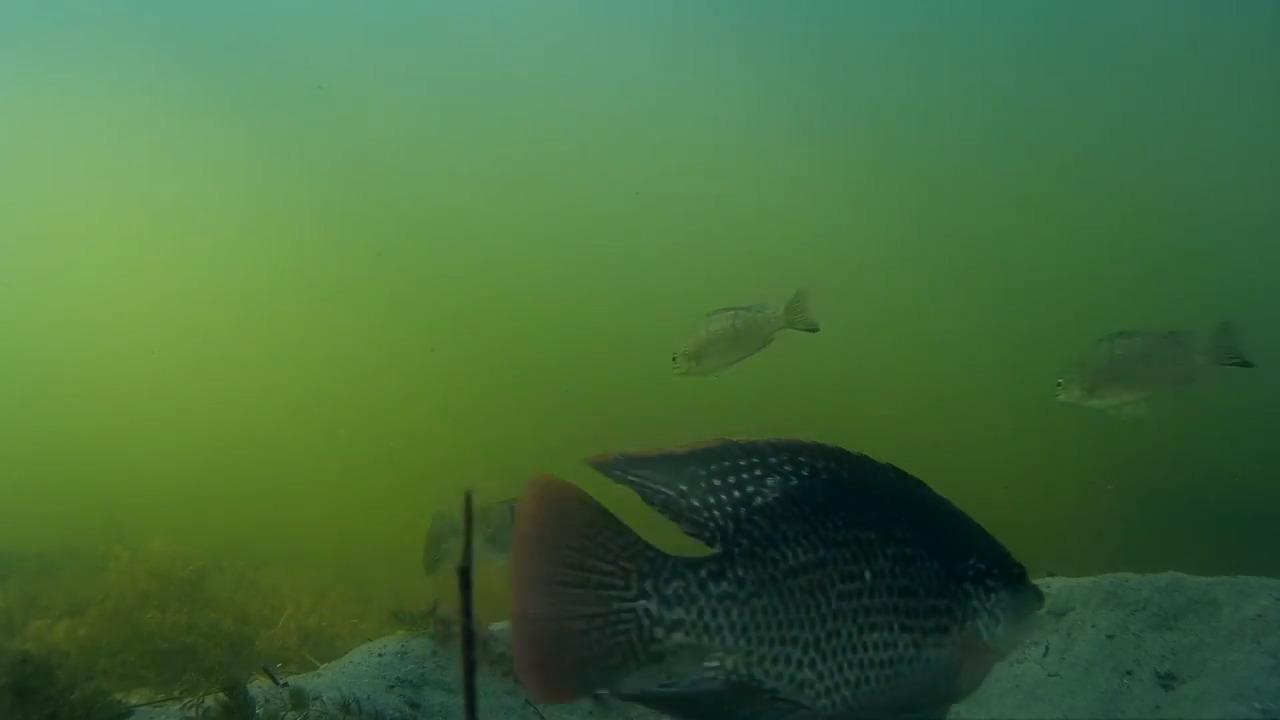Tilapia: (505, 430, 1048, 720), (1051, 316, 1256, 412), (665, 288, 828, 388)
